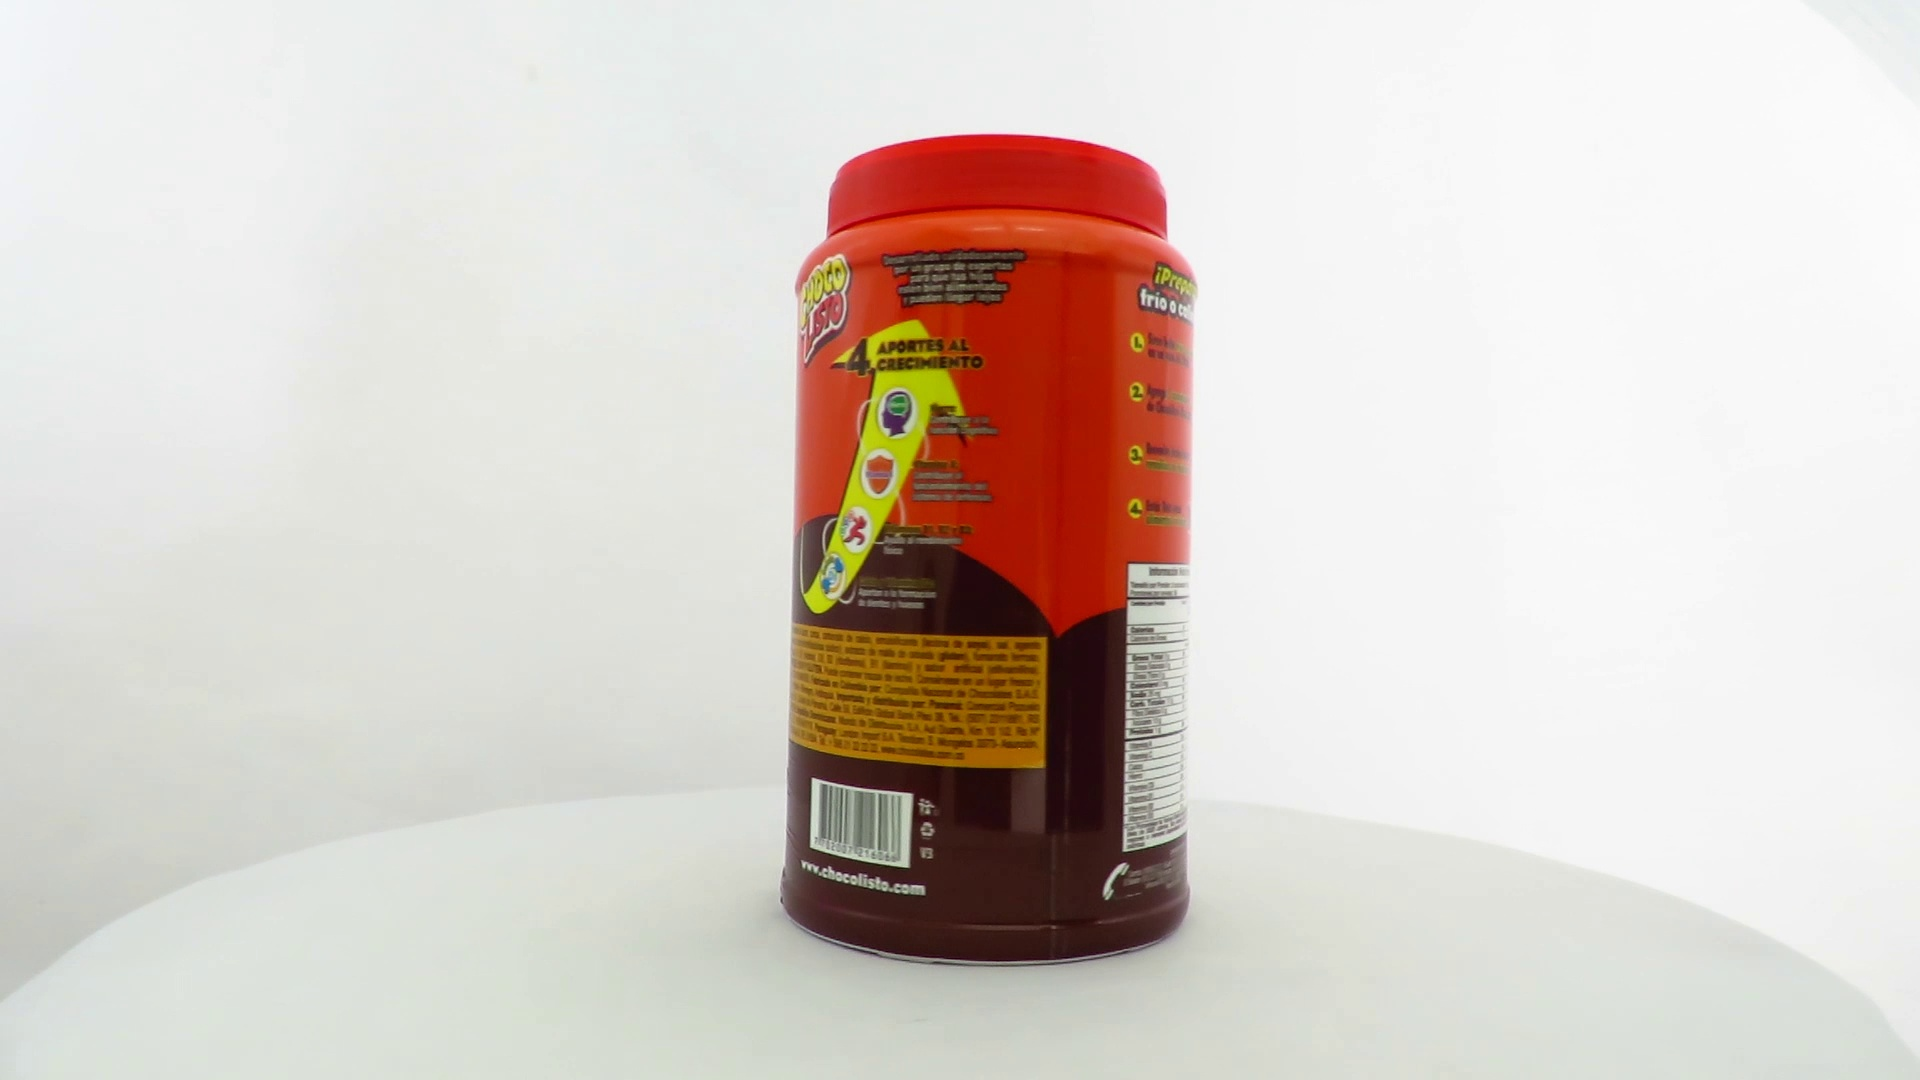COL0170103TRR00100: (775, 129, 1204, 973)
